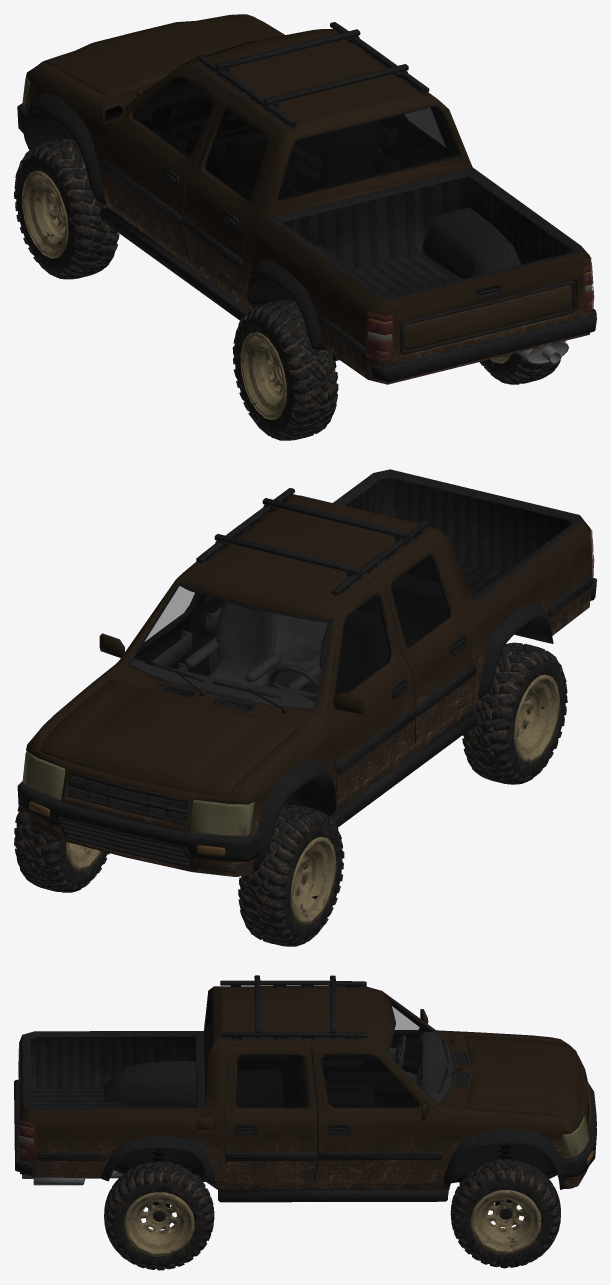
File: VEH_010_Pickup.glb
The picture shows the model from 3 angles, top to bottom: view 1: azimuth 30°, elevation 25°; view 2: azimuth 150°, elevation 25°; view 3: azimuth 270°, elevation 25°; orthographic projection. The views are drawn at different scales.
Parts seen in each view (by area): view 1: T_Body, Wheel_FR, Wheel_RR, Wheel_FL; view 2: T_Body, T_Interior, Wheel_RR, Wheel_FR, Wheel_RL; view 3: T_Body, Wheel_FL, Wheel_RL, T_Interior.
Part boxes in pixels (x1,y1,x2,y2): T_Body: (17,14,596,384); Wheel_FR: (232,300,338,440); Wheel_RR: (14,139,119,279); Wheel_FL: (479,341,565,384); T_Body: (17,469,596,876); T_Interior: (130,593,330,710); Wheel_RR: (238,805,344,946); Wheel_FR: (462,642,567,784); Wheel_RL: (14,807,109,892); T_Body: (14,975,596,1209); Wheel_FL: (104,1161,214,1270); Wheel_RL: (450,1159,560,1268); T_Interior: (386,1000,453,1103).
Bounding box in the file's own units: 2.33 × 2.24 × 5.41.
9 materials, 8 textured.
